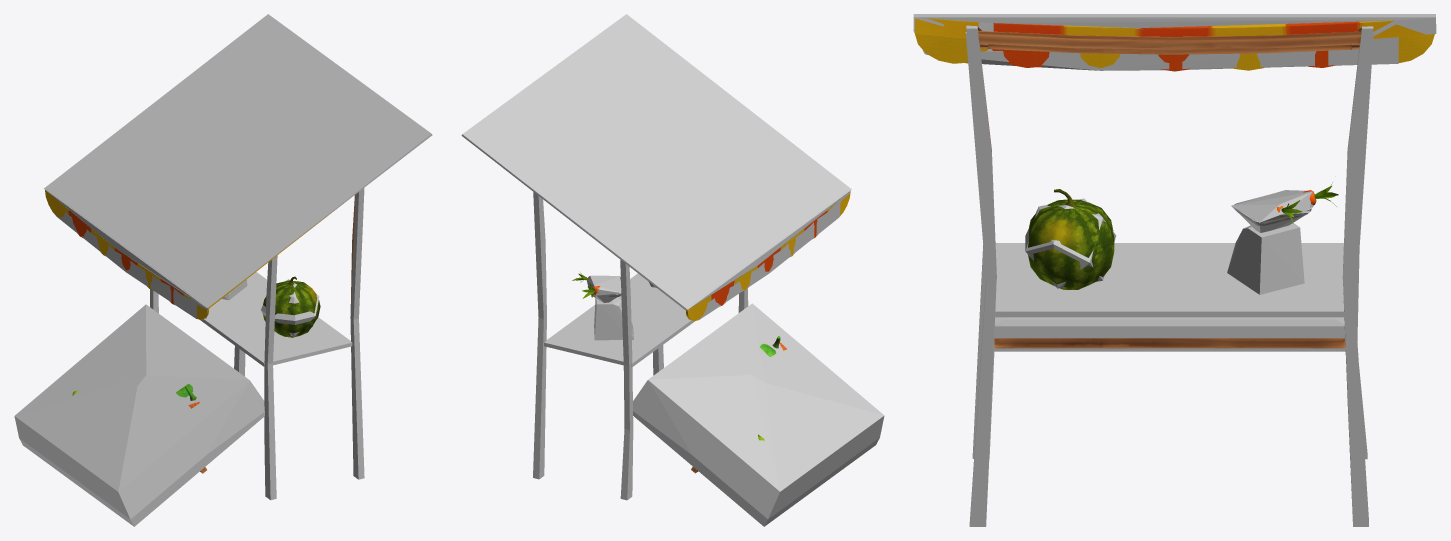
The model's file is SM_Market01_2.fbx.
3 views of the same model, side by side, from view 1: azimuth 30°, elevation 25°; view 2: azimuth 150°, elevation 25°; view 3: azimuth 270°, elevation 25° (orthographic). The views are drawn at different scales.
Visible parts, largest first — view 1: SM_Market01_2_ConvexHulls, SM_Market01_2; view 2: SM_Market01_2_ConvexHulls, SM_Market01_2; view 3: SM_Market01_2_ConvexHulls, SM_Market01_2.
Boxes of the visible parts, box(x1,y1,x2,y2) form: SM_Market01_2_ConvexHulls: box(14, 14, 432, 526); SM_Market01_2: box(45, 190, 355, 473); SM_Market01_2_ConvexHulls: box(461, 14, 884, 526); SM_Market01_2: box(572, 191, 850, 473); SM_Market01_2_ConvexHulls: box(913, 14, 1436, 526); SM_Market01_2: box(914, 18, 1434, 348).
Bounding box in the file's own units: 247 × 245 × 285.
Materials: 3 (2 with a texture image).
